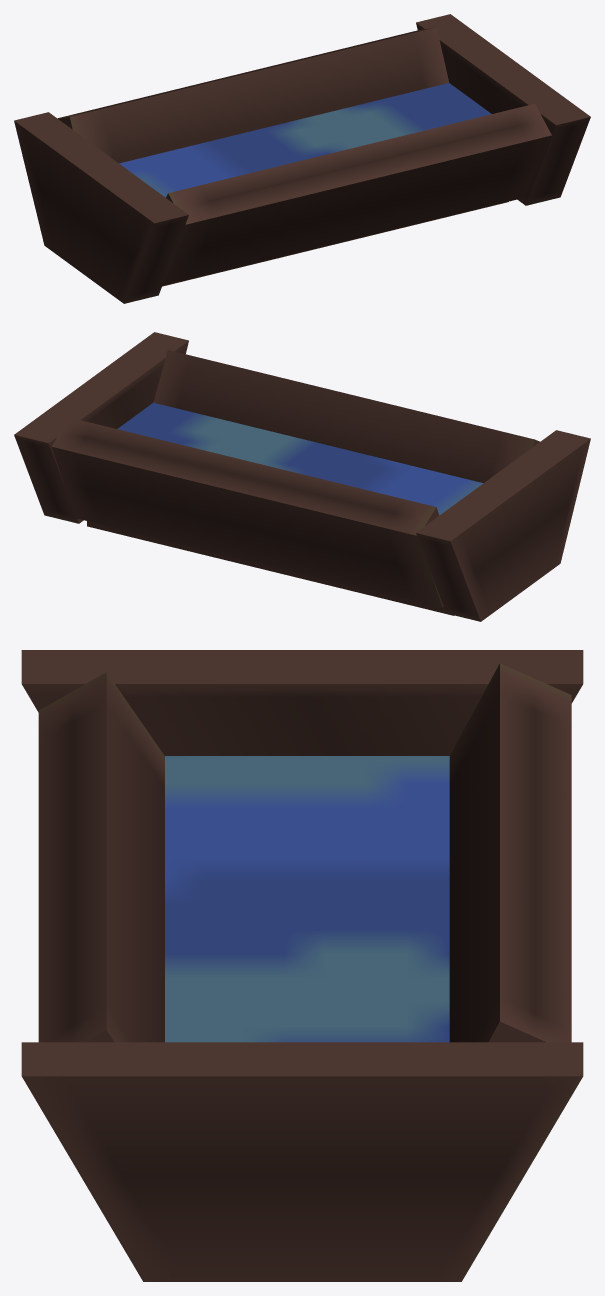
Rendered from water_bowl_v038.fbx.
3 views of the same model, one above another, from view 1: azimuth 30°, elevation 25°; view 2: azimuth 150°, elevation 25°; view 3: azimuth 270°, elevation 25° (orthographic). The views are drawn at different scales.
Visible parts, largest first — view 1: water_bowl_v038; view 2: water_bowl_v038; view 3: water_bowl_v038.
Boxes of the visible parts, box(x1,y1,x2,y2) form: water_bowl_v038: box(14, 14, 590, 303); water_bowl_v038: box(14, 332, 590, 621); water_bowl_v038: box(21, 650, 583, 1281).
Bounding box in the file's own units: 263 × 70.19 × 147.
